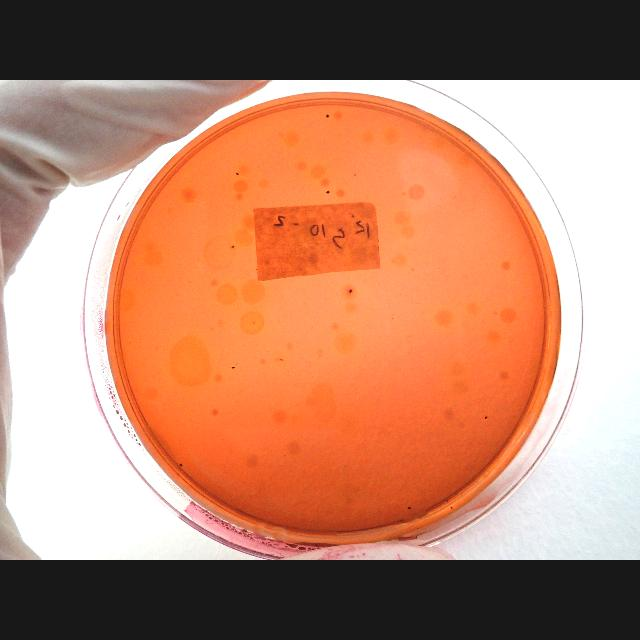colony: (324, 112, 331, 120), (234, 171, 242, 177), (230, 243, 236, 250), (178, 462, 184, 468), (348, 288, 354, 294), (326, 188, 330, 196), (484, 414, 488, 420), (406, 506, 412, 510), (230, 366, 236, 370), (353, 172, 357, 178), (278, 358, 284, 362), (445, 498, 449, 502), (468, 138, 472, 142), (451, 506, 454, 510), (284, 453, 286, 459)
